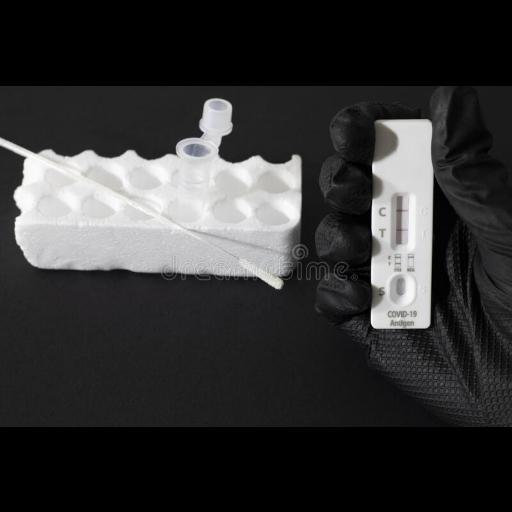Pos: (371, 120, 429, 326)
